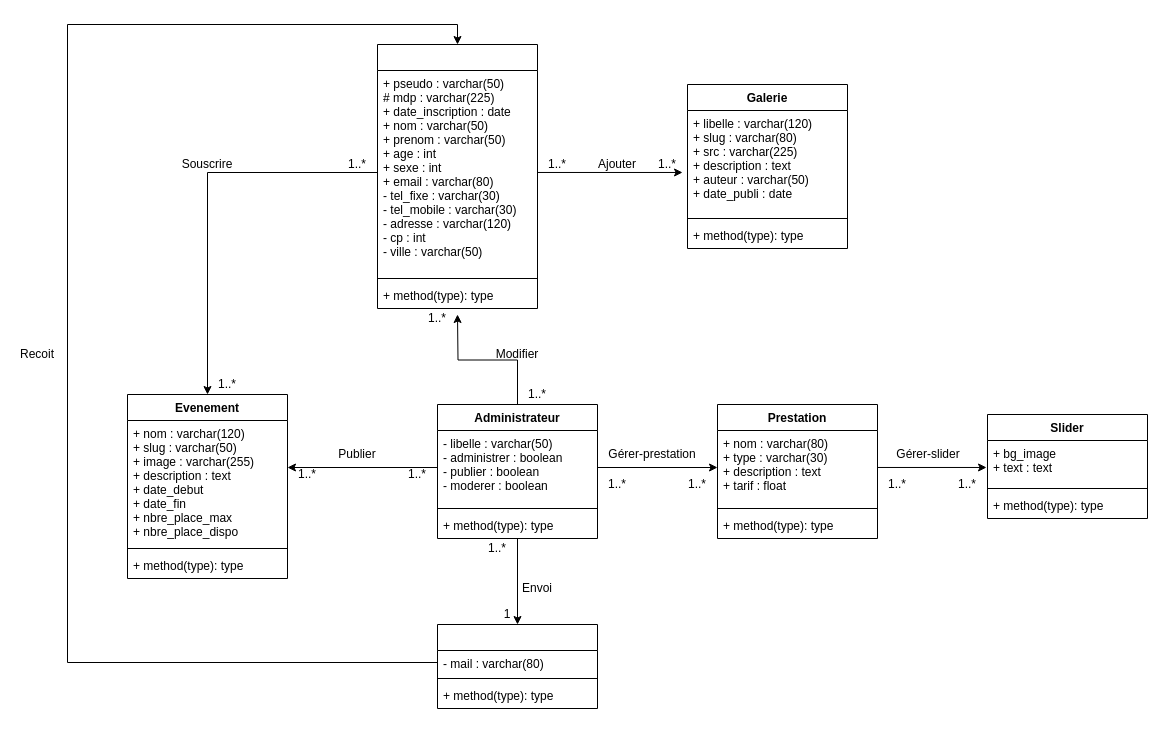
The diagram is 1165 pixels wide and 729 high, and some of its shapes have lost their labels. The shapes that lost their labels are listed below. From the top down, each one's box as (x1, y1, x2, y2) in pixels, then its label:
(376, 44, 538, 308): Utilisateur
(436, 624, 598, 708): Newsletter
